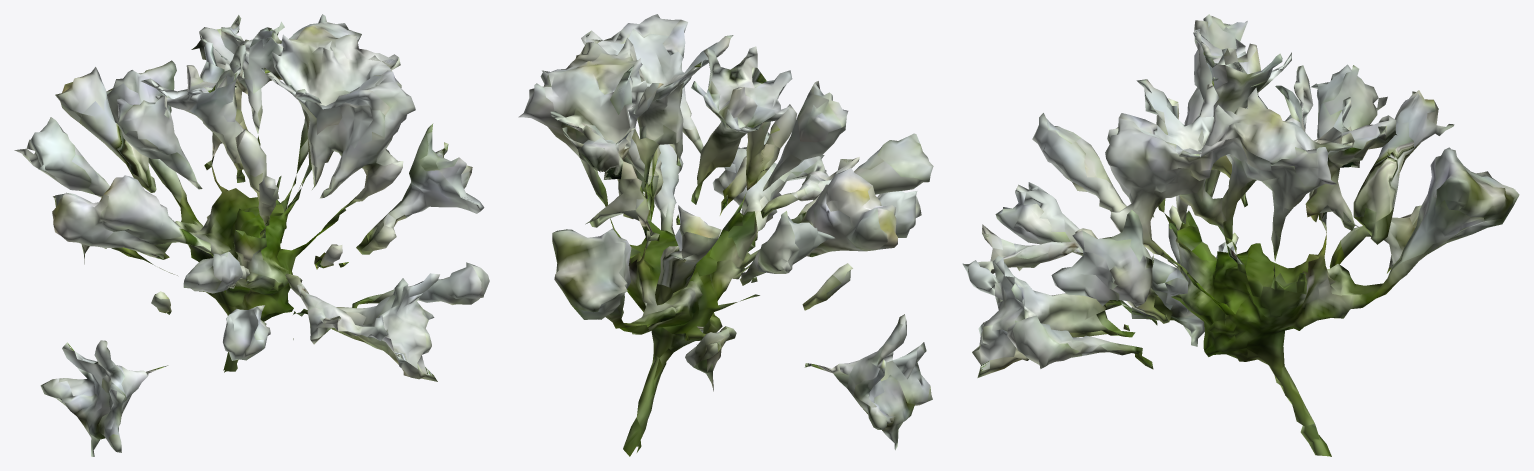
3 views of the same model, side by side, from view 1: azimuth 30°, elevation 25°; view 2: azimuth 150°, elevation 25°; view 3: azimuth 270°, elevation 25° (orthographic). The views are drawn at different scales.
Visible parts, largest first — view 1: 7d93c98b; view 2: 7d93c98b; view 3: 7d93c98b.
Boxes of the visible parts, left/top/right/bottom form: 7d93c98b: left=14, top=14, right=489, bottom=456; 7d93c98b: left=518, top=14, right=933, bottom=456; 7d93c98b: left=962, top=14, right=1519, bottom=456.
Bounding box in the file's own units: 0.1249 × 0.1202 × 0.1537.
Materials: 1 (1 with a texture image).
